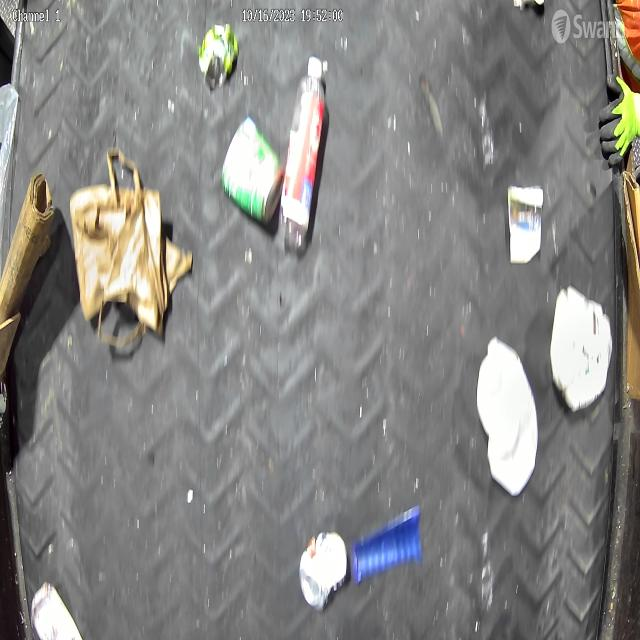can: (221, 116, 286, 225), (299, 524, 347, 612), (198, 20, 238, 92)
milk_jug: (477, 334, 538, 502)
plastic_bottle: (280, 57, 328, 253)
